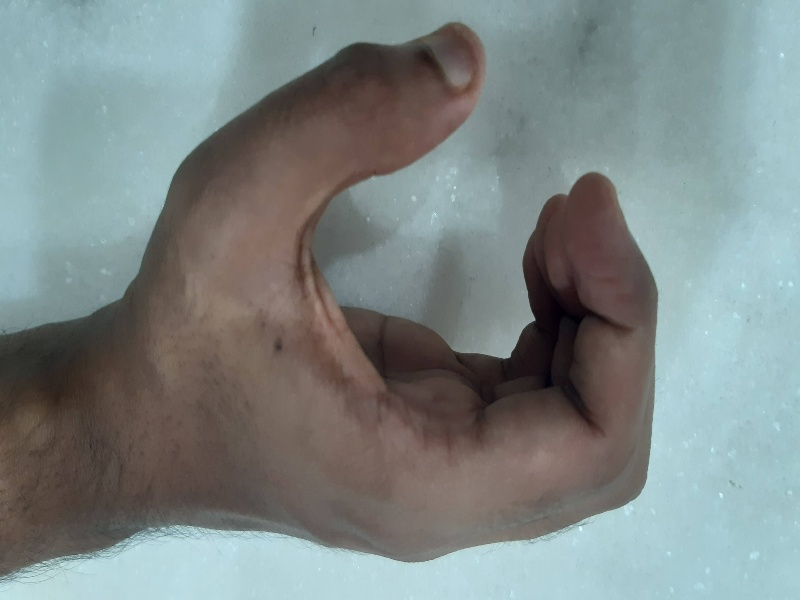one: (137, 13, 693, 573)
